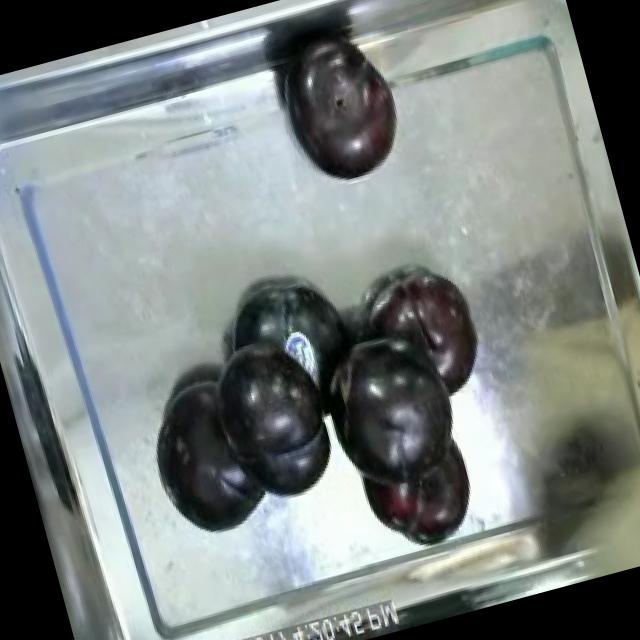Fruit: (194, 330, 348, 524), (132, 362, 281, 552), (202, 255, 374, 414), (269, 32, 416, 198), (378, 250, 500, 410)
